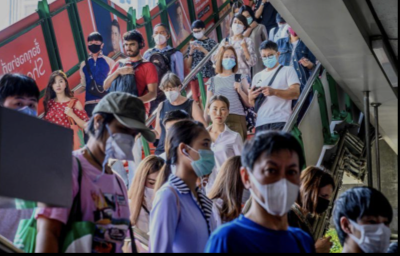with_mask: (249, 157, 301, 216), (347, 211, 390, 252), (99, 120, 140, 161), (183, 133, 214, 175), (305, 186, 333, 215), (259, 49, 277, 68), (163, 84, 178, 101), (220, 51, 234, 69), (152, 28, 167, 44), (229, 18, 244, 33), (87, 39, 101, 53), (191, 27, 203, 38)
without_mask: (208, 104, 227, 123), (123, 40, 138, 56), (50, 77, 65, 92)
